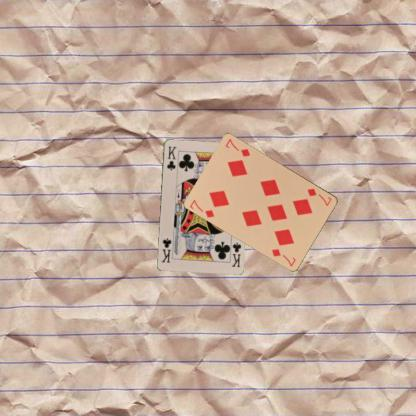7d: (187, 197, 216, 219), (305, 186, 333, 208)
Kc: (229, 240, 242, 268), (164, 144, 177, 171)
